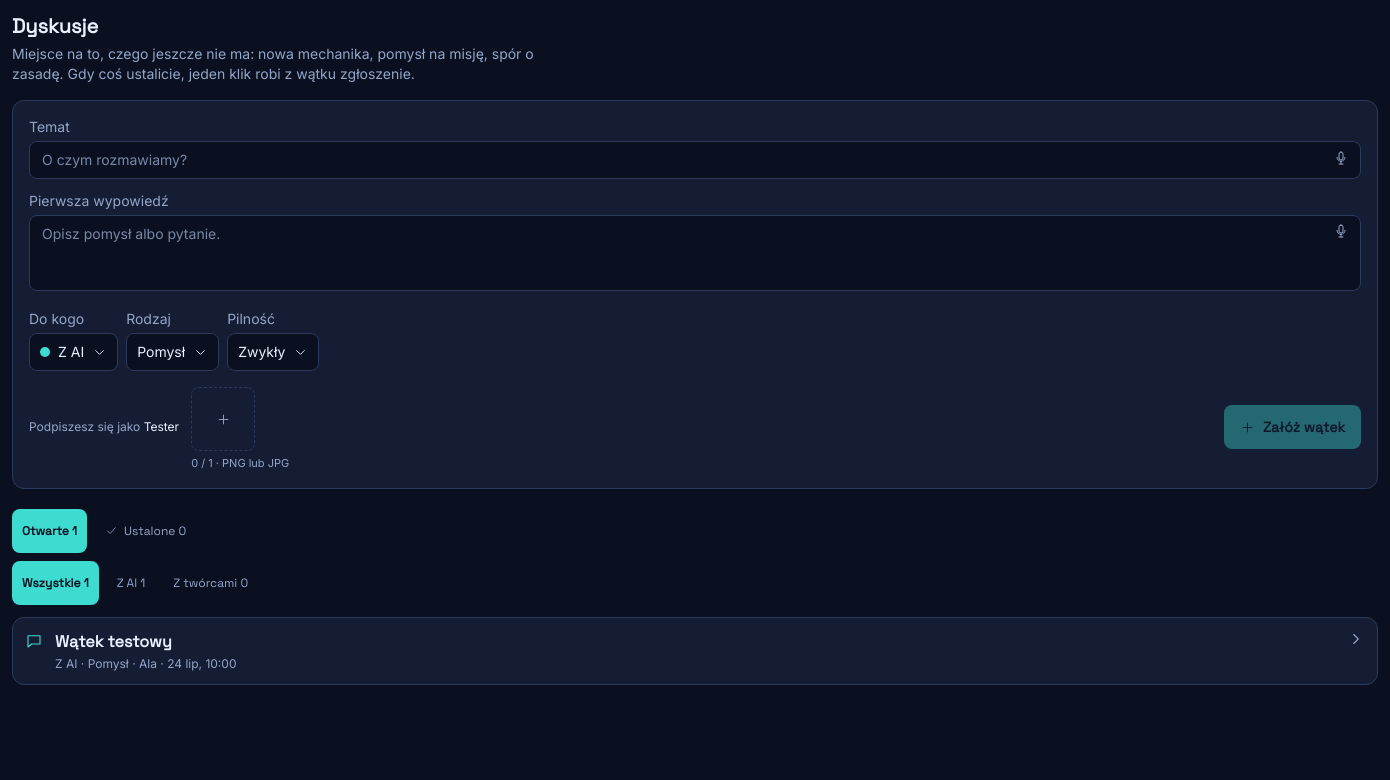
DiscussionsPanel — zamykanie wątku › nieudane zamknięcie wątku pokazuje błąd, nie ciszę
Click the button "Wątek testowy" at (113, 641), box [12,616,1378,684]
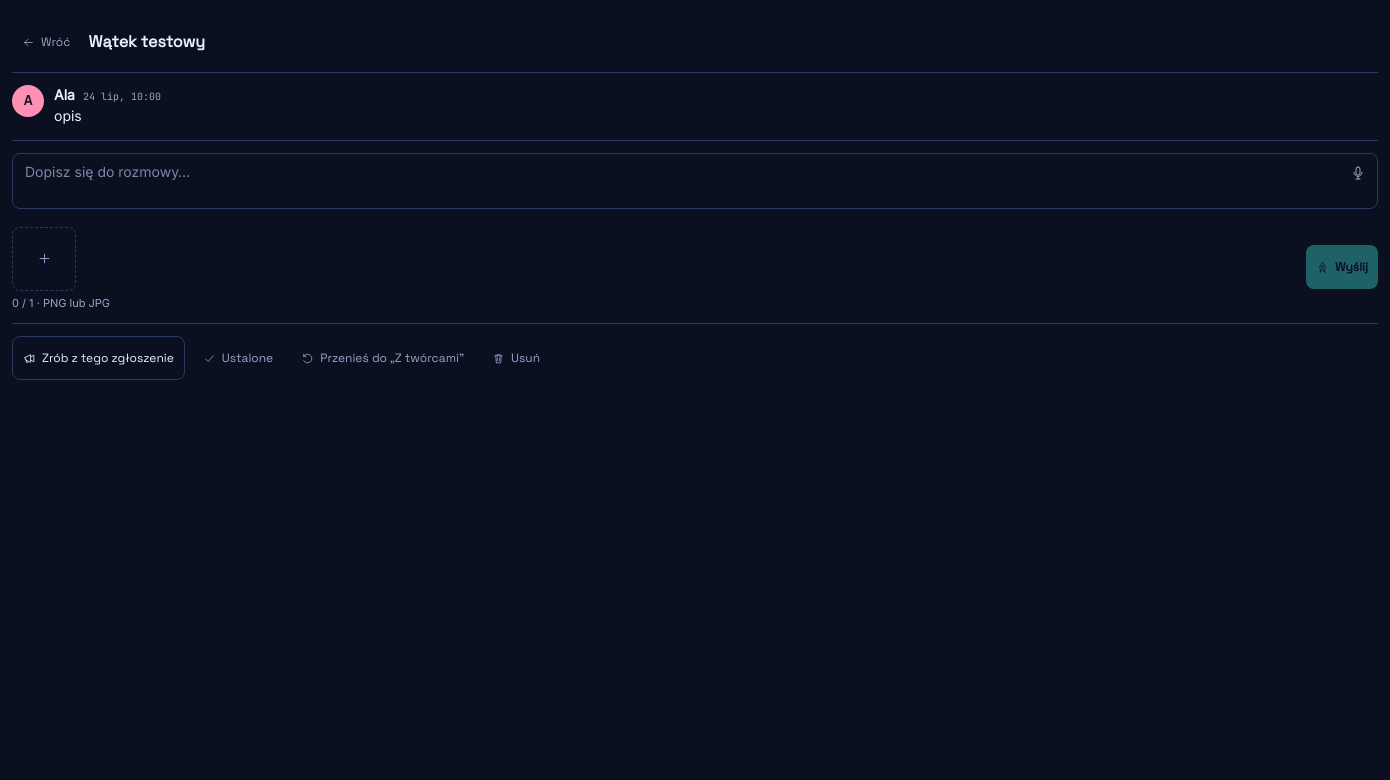
Click the button "Ustalone" at (238, 358), box [193,336,283,380]
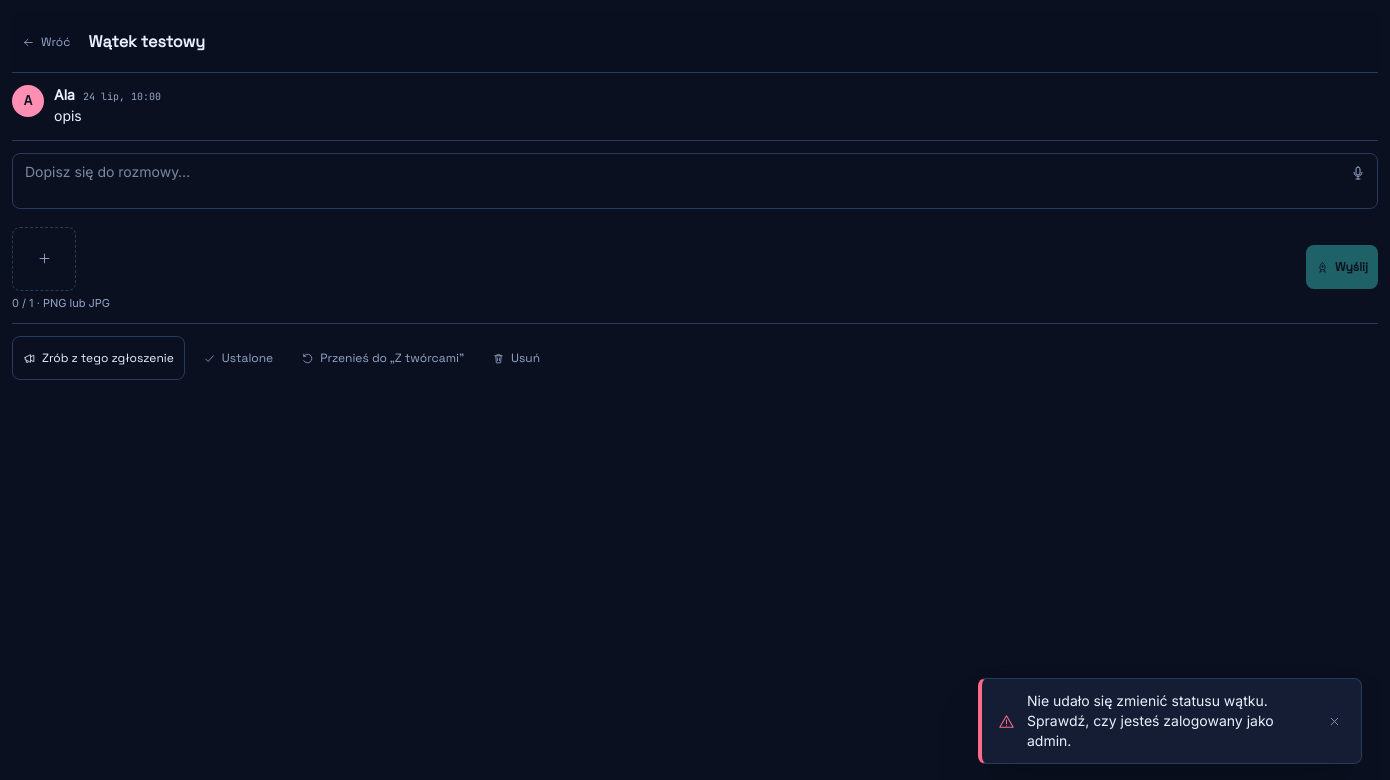
Expected: the text "Nie udało się" is shown, [1027,692,1274,749]
